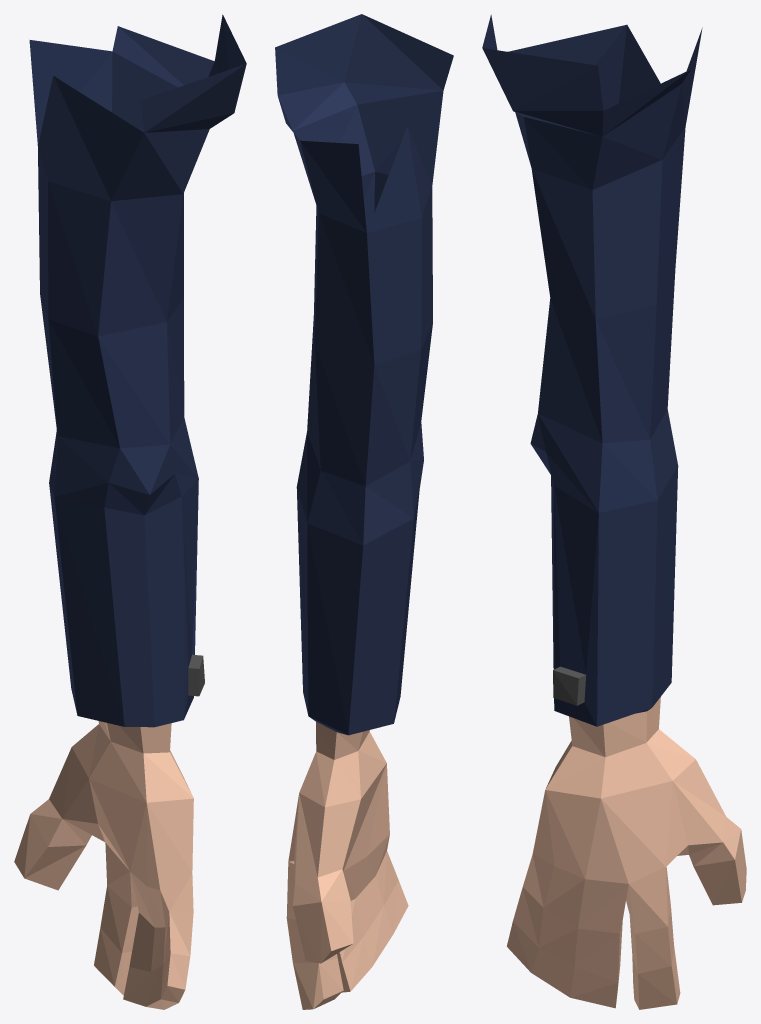
File: ArmR.obj
The picture shows the model from 3 angles, left to right: view 1: azimuth 30°, elevation 25°; view 2: azimuth 150°, elevation 25°; view 3: azimuth 270°, elevation 25°; orthographic projection. The views are drawn at different scales.
Size of the model in its own units: 0.1493 by 0.8464 by 0.2073.
1 material, 1 textured.
